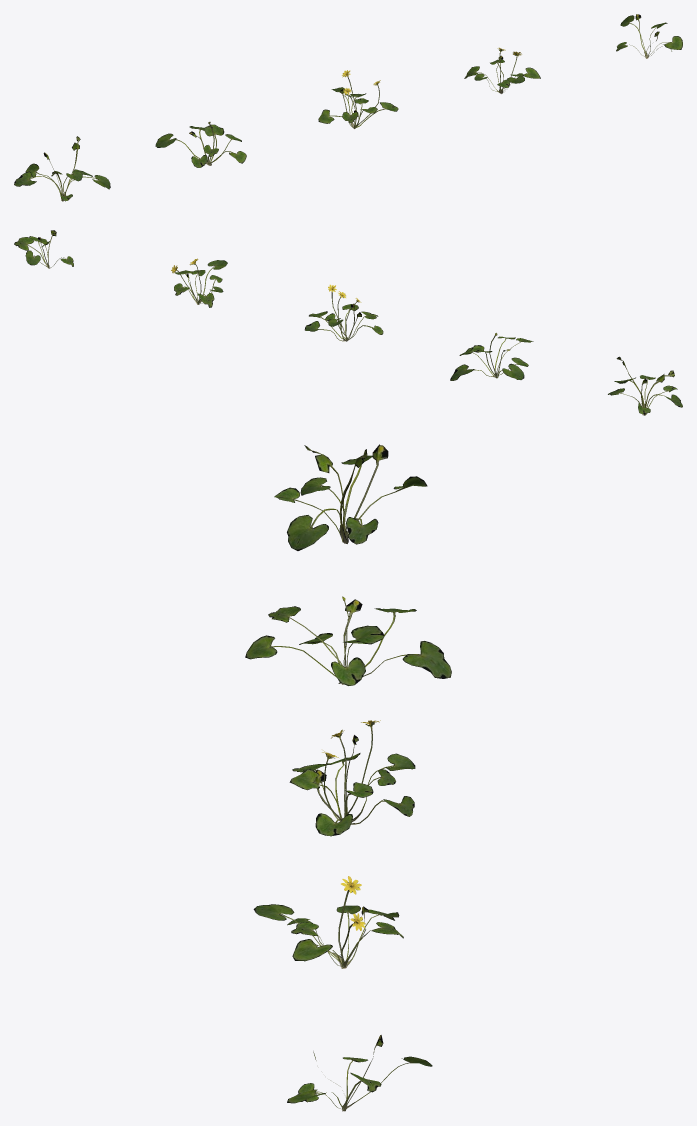
File: celandine_01.glb
3 renders of one model, top to bottom at view 1: azimuth 30°, elevation 25°; view 2: azimuth 150°, elevation 25°; view 3: azimuth 270°, elevation 25°, orthographic. The views are drawn at different scales.
Visible parts, largest first — view 1: celandine_01_b_LOD0, celandine_01_c_LOD0, celandine_01_a_LOD0, celandine_01_d_LOD0, celandine_01_e_LOD0; view 2: celandine_01_c_LOD0, celandine_01_b_LOD0, celandine_01_d_LOD0, celandine_01_a_LOD0, celandine_01_e_LOD0; view 3: celandine_01_b_LOD0, celandine_01_a_LOD0, celandine_01_c_LOD0, celandine_01_d_LOD0, celandine_01_e_LOD0.
Part boxes in pixels (left/top/right/bottom): celandine_01_b_LOD0: left=155, top=122, right=246, bottom=167; celandine_01_c_LOD0: left=318, top=70, right=398, bottom=128; celandine_01_a_LOD0: left=14, top=136, right=110, bottom=201; celandine_01_d_LOD0: left=464, top=47, right=540, bottom=93; celandine_01_e_LOD0: left=616, top=14, right=682, bottom=58; celandine_01_c_LOD0: left=304, top=284, right=383, bottom=341; celandine_01_b_LOD0: left=450, top=333, right=533, bottom=380; celandine_01_d_LOD0: left=171, top=258, right=227, bottom=307; celandine_01_a_LOD0: left=608, top=356, right=682, bottom=415; celandine_01_e_LOD0: left=14, top=230, right=73, bottom=268; celandine_01_b_LOD0: left=245, top=596, right=451, bottom=685; celandine_01_a_LOD0: left=274, top=444, right=427, bottom=550; celandine_01_c_LOD0: left=289, top=720, right=415, bottom=836; celandine_01_d_LOD0: left=253, top=876, right=403, bottom=968; celandine_01_e_LOD0: left=287, top=1035, right=432, bottom=1111.
Size of the model in its own units: 2.24 by 0.1859 by 0.3067.
Materials: 1 (1 with a texture image).
